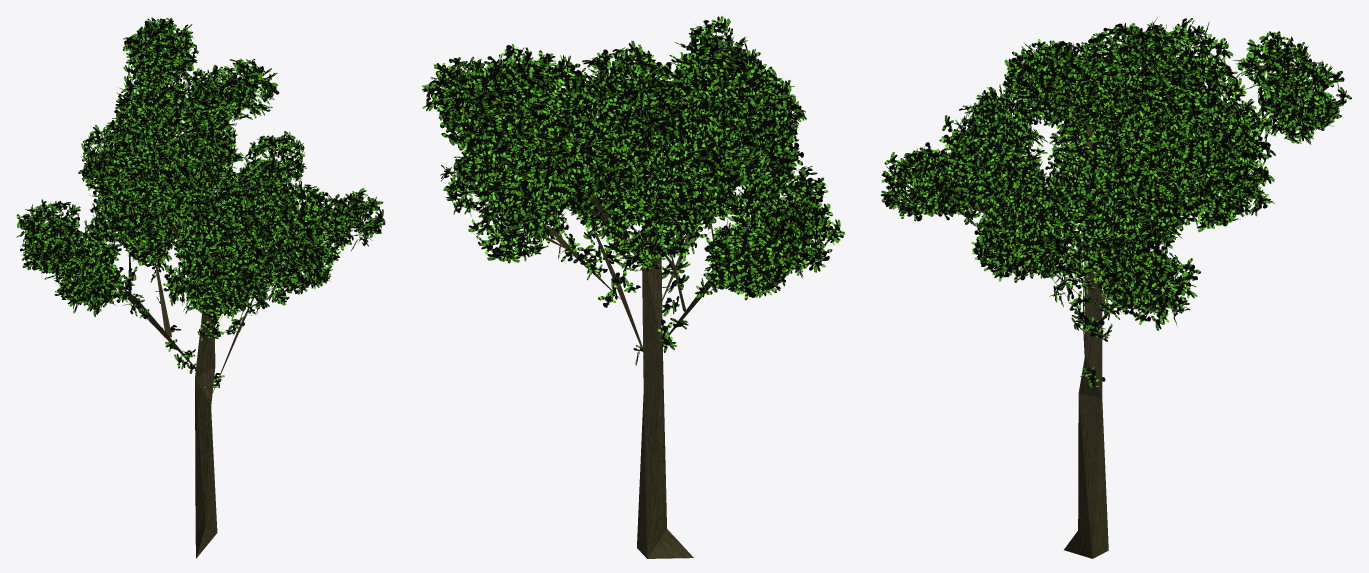
The model's file is emergent_fig_v01_LOD1.fbx.
The picture shows the model from 3 angles, left to right: view 1: azimuth 30°, elevation 25°; view 2: azimuth 150°, elevation 25°; view 3: azimuth 270°, elevation 25°; orthographic projection. The views are drawn at different scales.
Visible parts, largest first — view 1: emergent_fig_v01_LOD1; view 2: emergent_fig_v01_LOD1; view 3: emergent_fig_v01_LOD1.
Boxes of the visible parts, bbox=[...] form: emergent_fig_v01_LOD1: bbox=[16, 17, 385, 558]; emergent_fig_v01_LOD1: bbox=[422, 15, 844, 558]; emergent_fig_v01_LOD1: bbox=[880, 17, 1351, 558].
Size of the model in its own units: 2908 by 3330 by 4226.
Materials: 2 (2 with a texture image).
